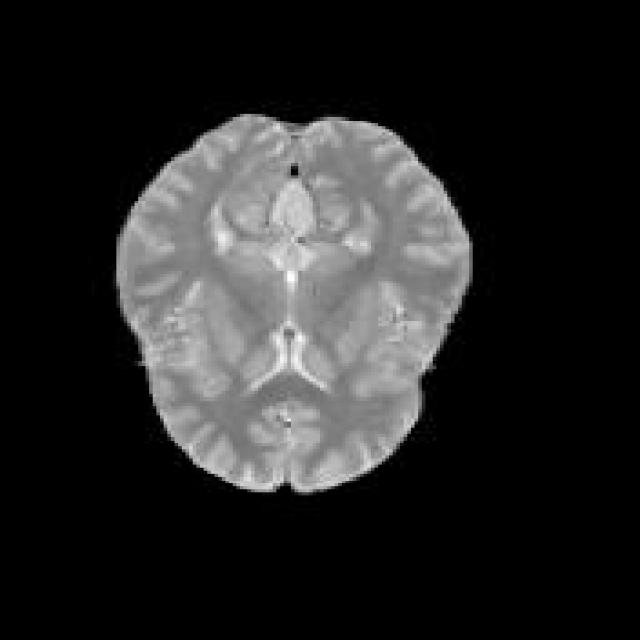parkinson: (112, 108, 472, 495)
